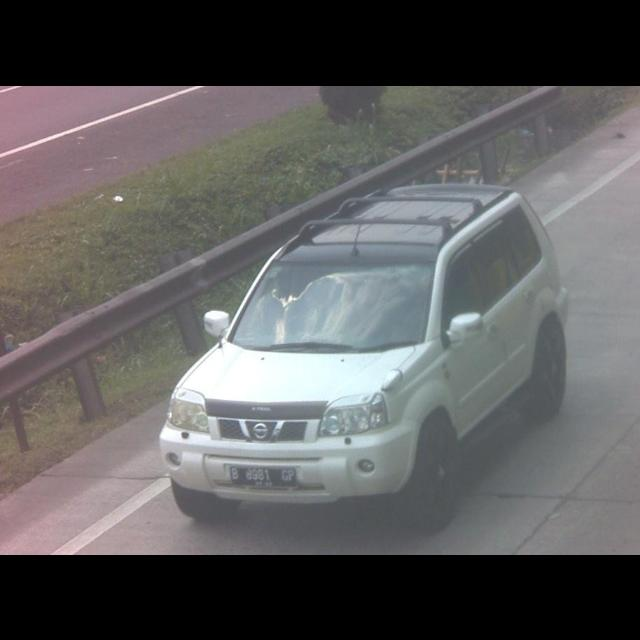plate: (227, 465, 299, 489)
